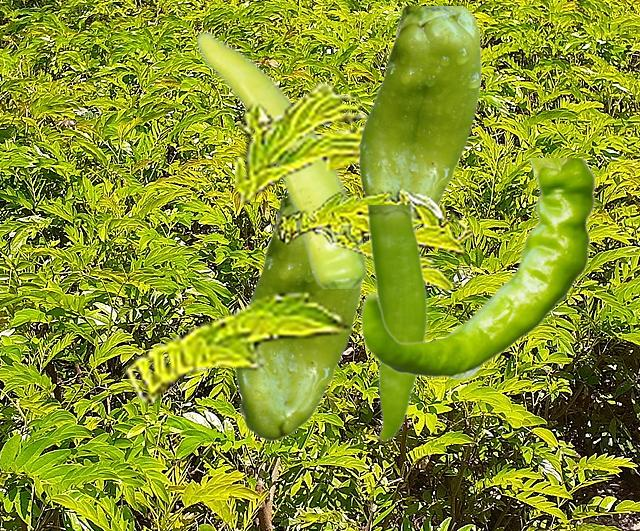green_chili: (360, 158, 596, 379), (196, 29, 365, 287), (234, 198, 362, 440), (358, 6, 480, 201), (365, 205, 426, 441)
